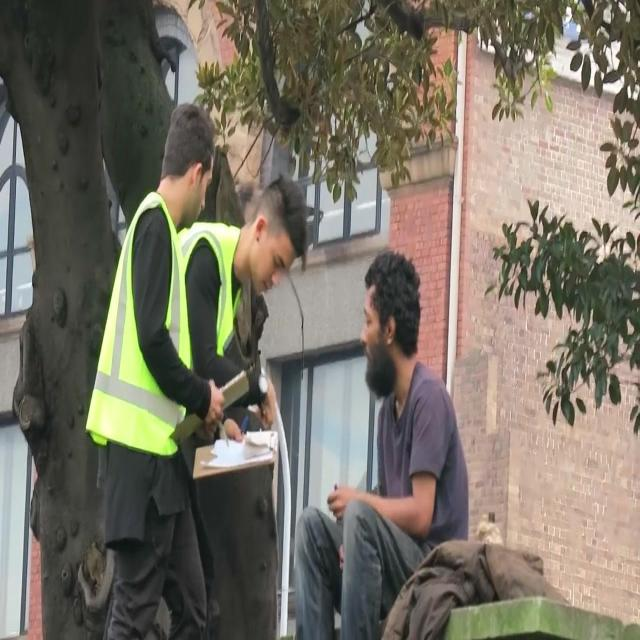jacket: (82, 184, 204, 463)
